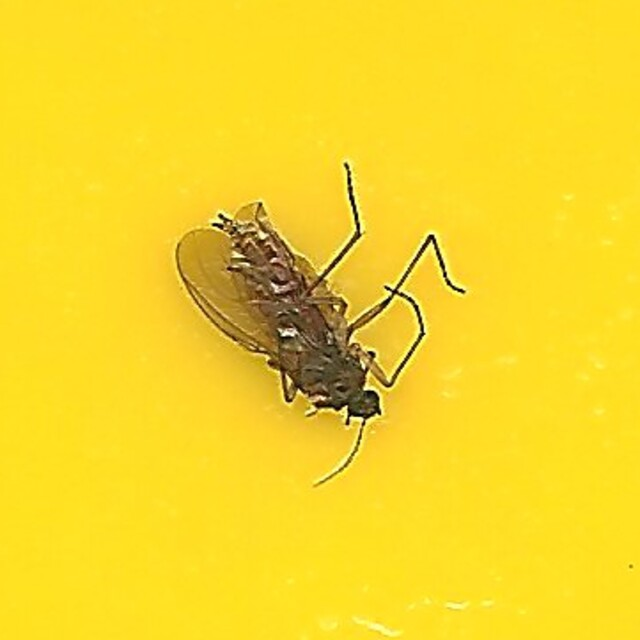Nematocera: (177, 164, 463, 476)
